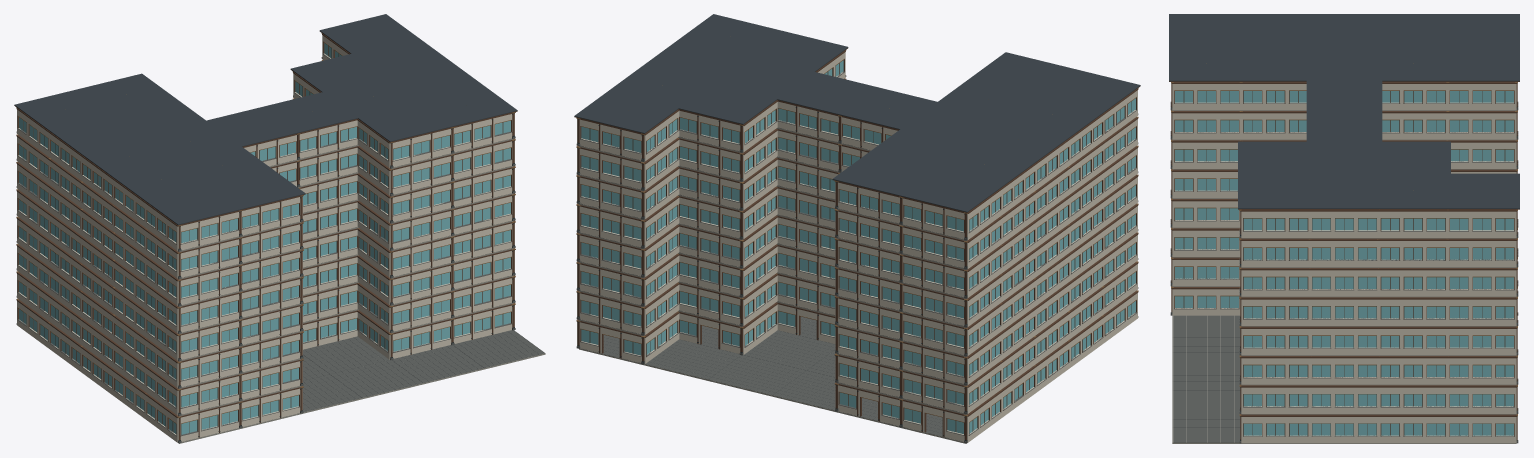
The picture shows the model from 3 angles, left to right: view 1: azimuth 30°, elevation 25°; view 2: azimuth 150°, elevation 25°; view 3: azimuth 270°, elevation 25°; orthographic projection. The views are drawn at different scales.
Visible parts, largest first — view 1: 参数墙 · 独立窗玻璃 (×89), 医馆连续H形平屋面, 石铺面与混凝土楼板 (×5); view 2: 参数墙 · 独立窗玻璃 (×92), 医馆连续H形平屋面, 石铺面与混凝土楼板 (×4), 参数墙 · 通行门洞 (×5); view 3: 参数墙 · 独立窗玻璃 (×47), 医馆连续H形平屋面, 石铺面与混凝土楼板 (×4).
Part boxes in pixels (x1,y1,x2,y2): 参数墙 · 独立窗玻璃 (×89): (16,108,512,442); 医馆连续H形平屋面: (14,14,517,225); 石铺面与混凝土楼板 (×5): (301,330,545,413); 参数墙 · 独立窗玻璃 (×92): (579,88,1138,442); 医馆连续H形平屋面: (574,14,1140,212); 石铺面与混凝土楼板 (×4): (643,330,836,412); 参数墙 · 通行门洞 (×5): (579,303,964,441); 参数墙 · 独立窗玻璃 (×47): (1172,82,1516,443); 医馆连续H形平屋面: (1169,14,1519,209); 石铺面与混凝土楼板 (×4): (1172,315,1241,443).
Bounding box in the file's own units: 54 × 30.74 × 41.2.
15 materials, 15 textured.
